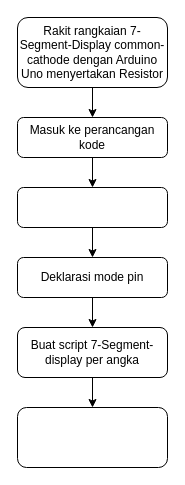
This 185x485 diagram has some shape labels left out. The centre of each missing label's shape, as x and y in pixels:
"Deklarasi nama pin" belongs at (92,207).
"Jalankan Script dari angka 0 ke 9 dengan delay 1000 (1 detik) per angka" belongs at (92,437).
